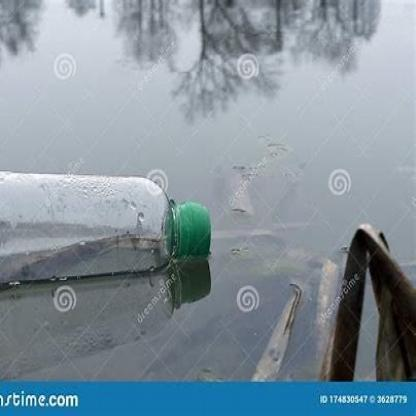plastic bottle: (2, 171, 211, 278)
